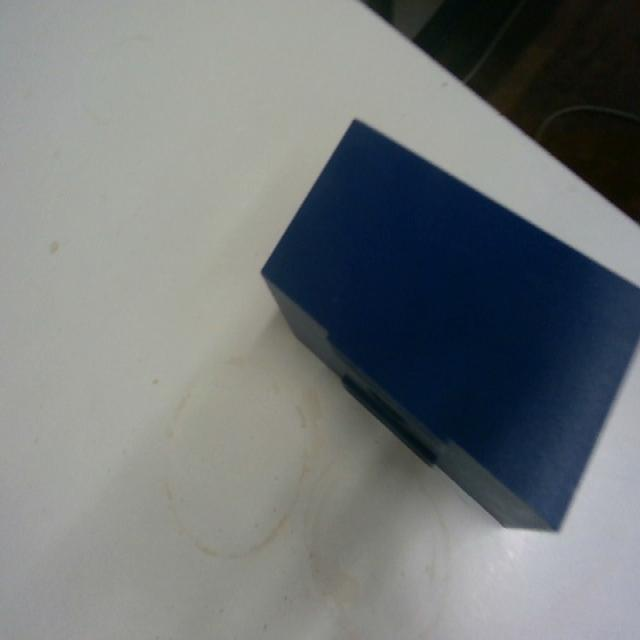Blue Cuboid: (259, 115, 639, 534)
